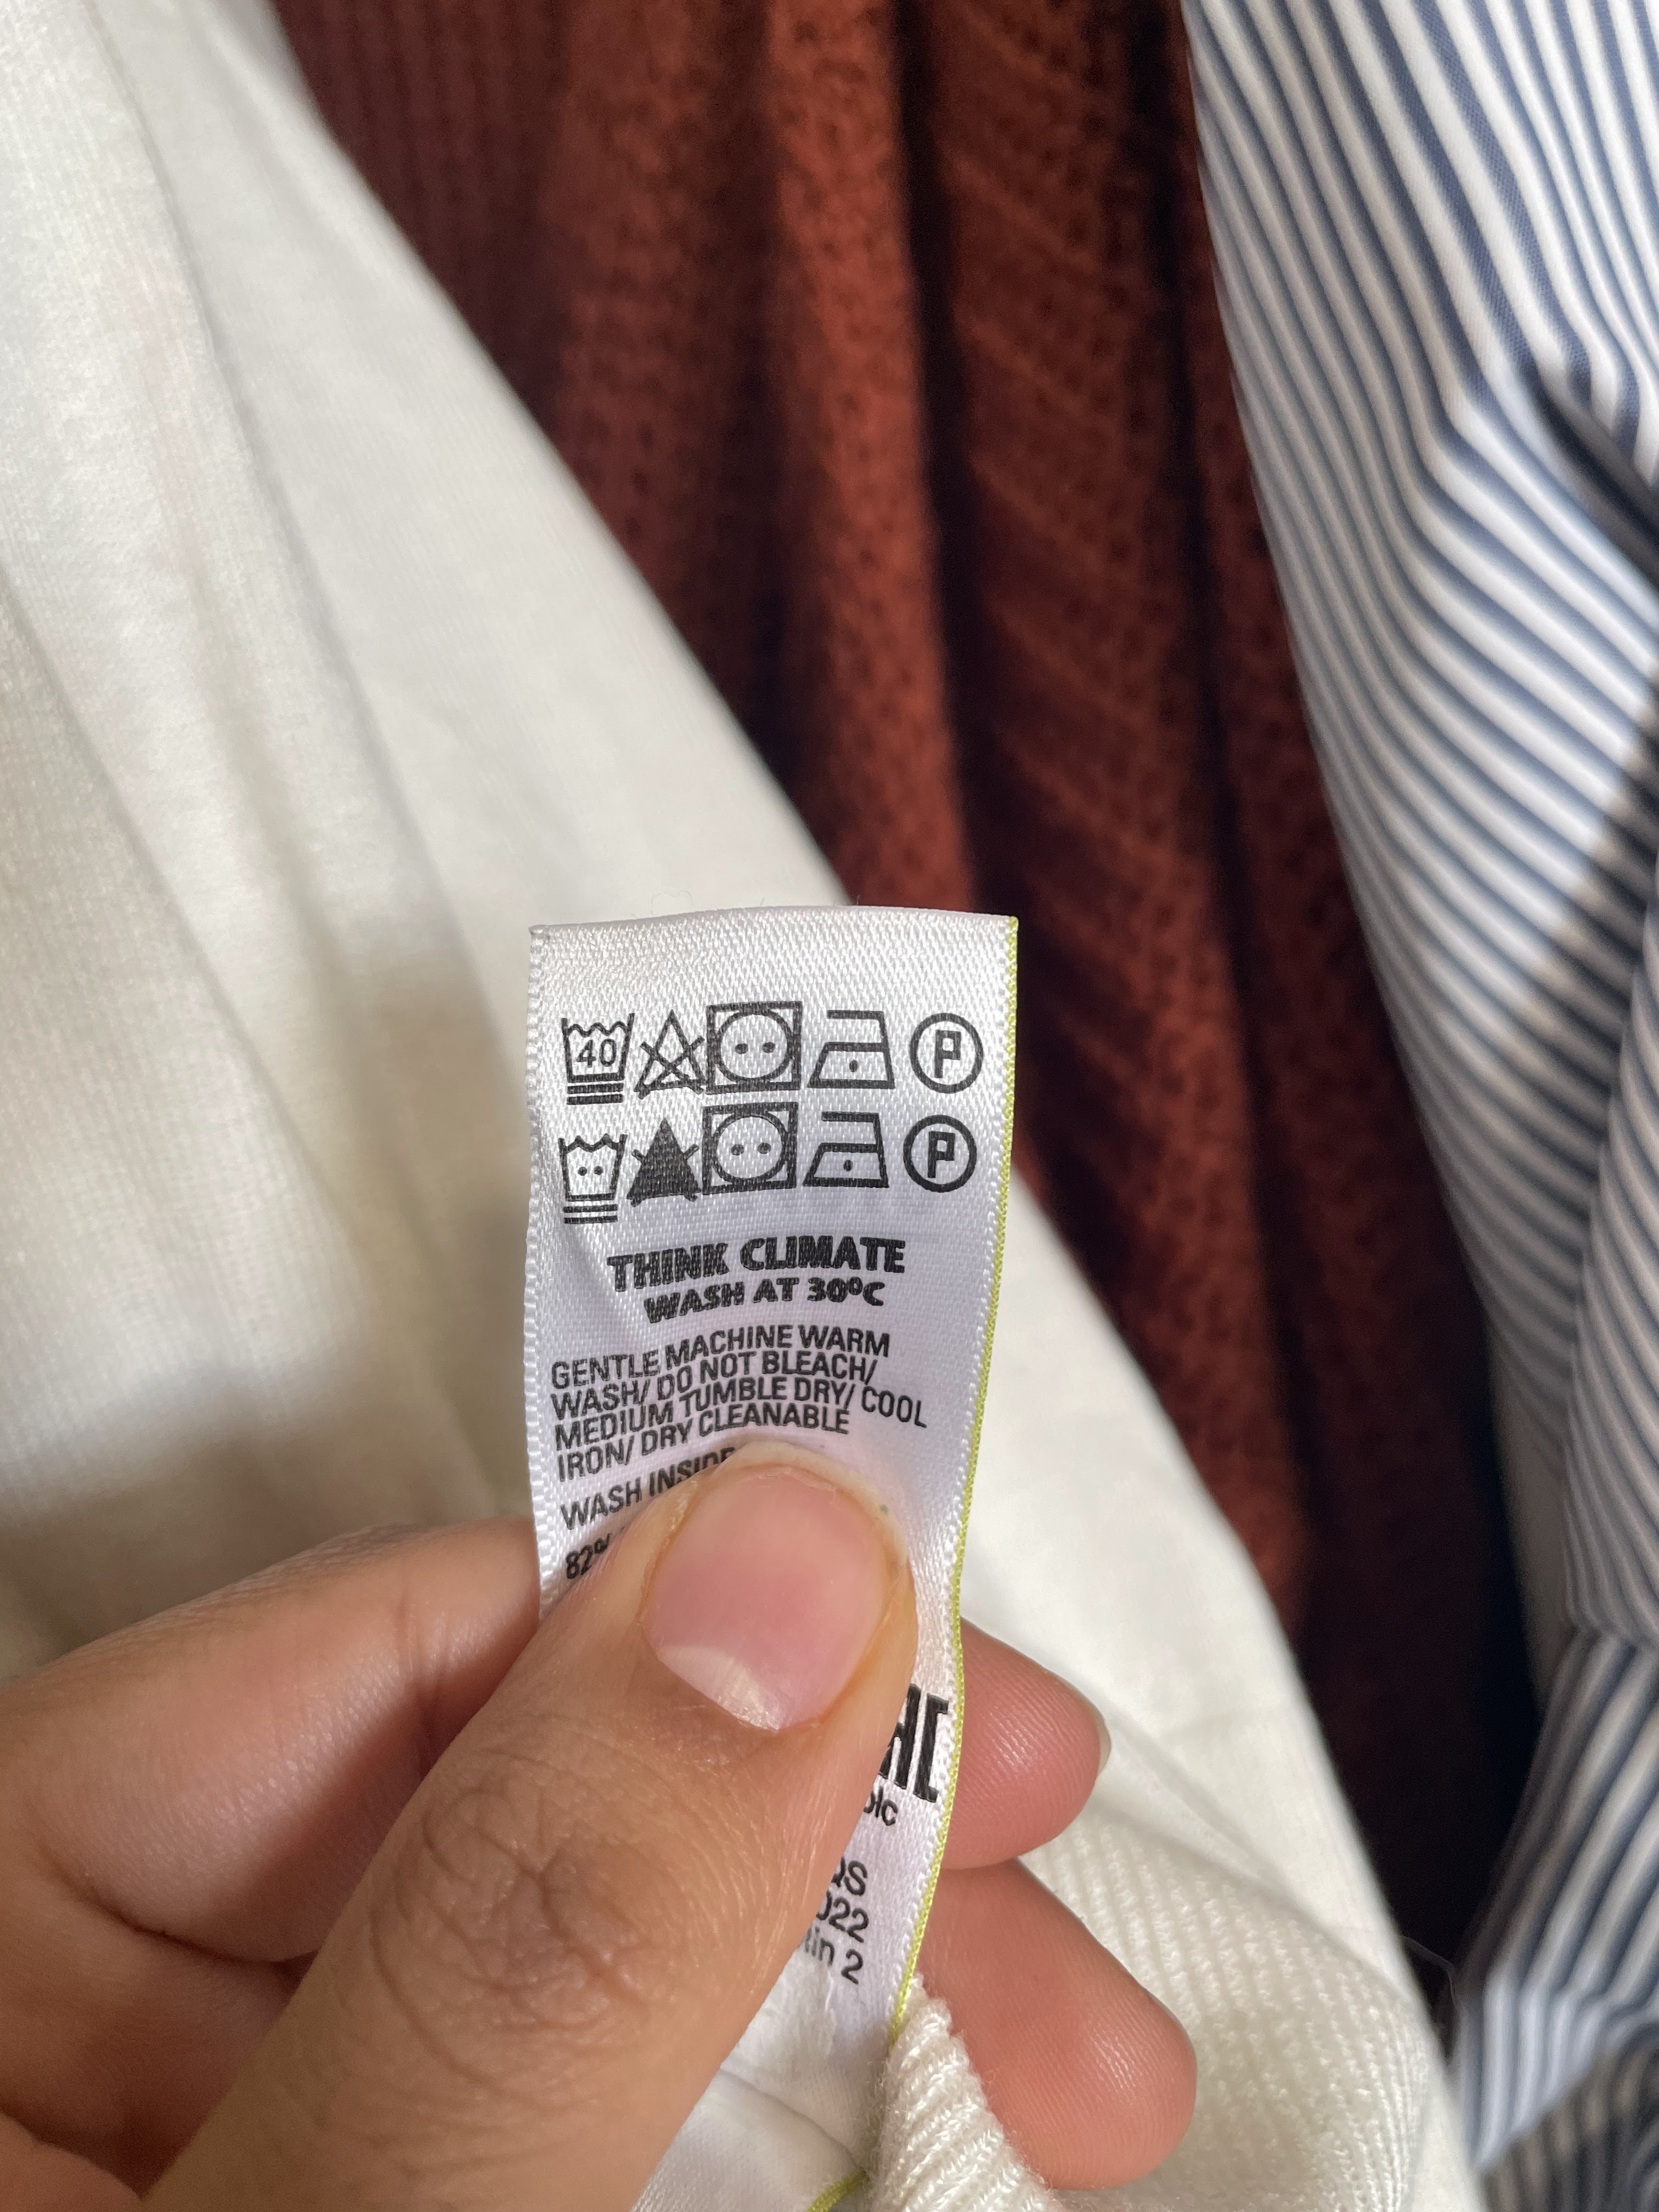do not bleach: (633, 995, 709, 1103)
dry clean: (904, 998, 1006, 1090)
iron low temp: (819, 988, 904, 1103)
tumble dry medium temp: (699, 986, 810, 1097)
wash at or below 40: (542, 1007, 641, 1120)
